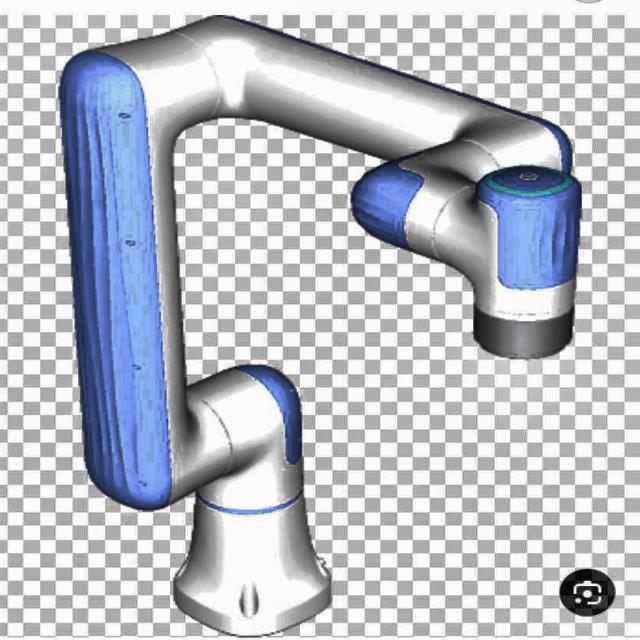robot: (59, 14, 583, 637)
